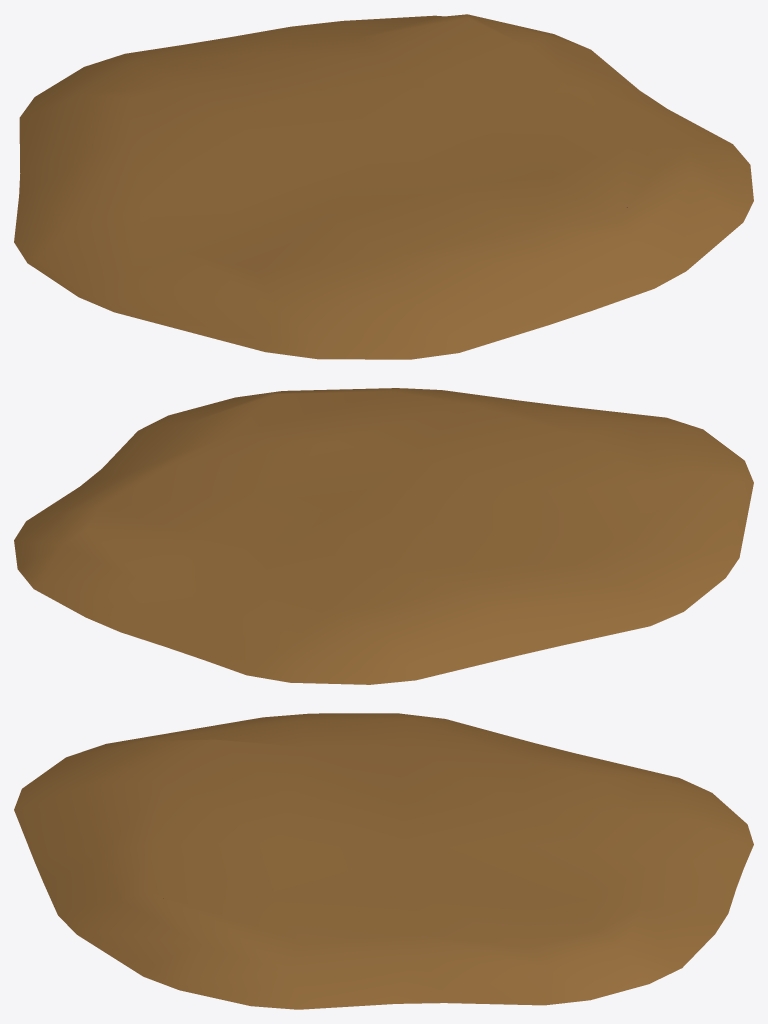
File: Mud.fbx
3 views of the same model, one above another, from view 1: azimuth 30°, elevation 25°; view 2: azimuth 150°, elevation 25°; view 3: azimuth 270°, elevation 25° (orthographic). The views are drawn at different scales.
Visible parts, largest first — view 1: Cube; view 2: Cube; view 3: Cube.
Boxes of the visible parts, <box> form: Cube: <box>14,14,753,359</box>; Cube: <box>14,388,753,684</box>; Cube: <box>14,713,753,1009</box>.
Bounding box in the file's own units: 188 × 11.65 × 198.
